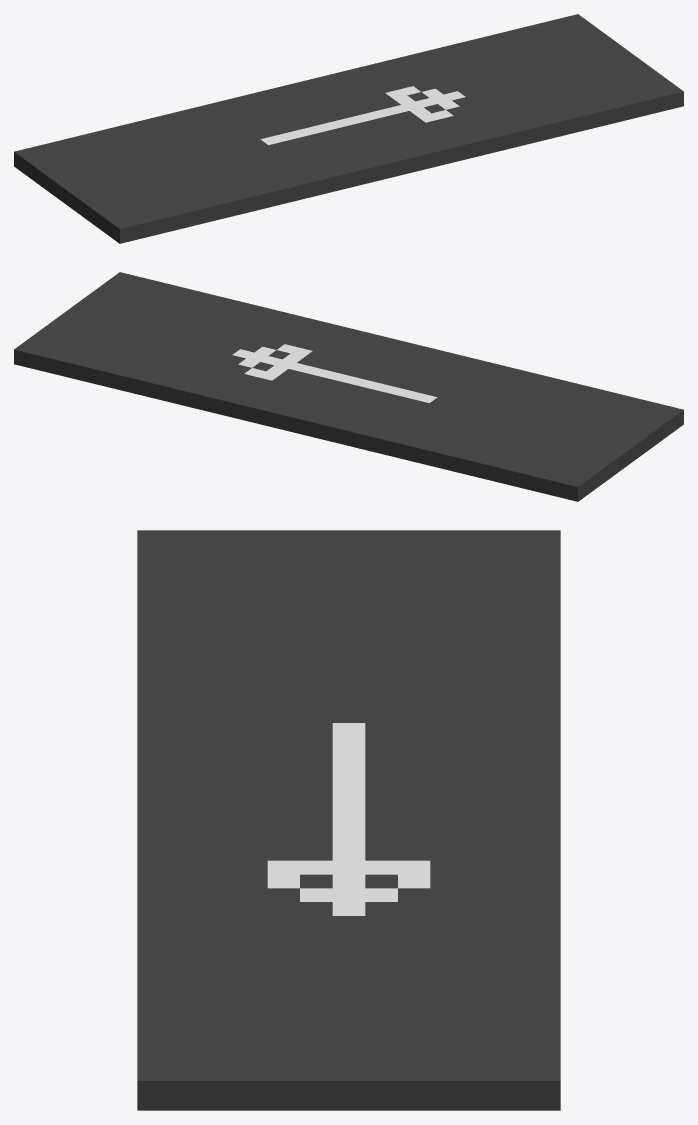
Rendered from calle2_texture_embed.fbx.
3 renders of one model, top to bottom at view 1: azimuth 30°, elevation 25°; view 2: azimuth 150°, elevation 25°; view 3: azimuth 270°, elevation 25°, orthographic. The views are drawn at different scales.
Parts seen in each view (by area): view 1: calle2; view 2: calle2; view 3: calle2.
Boxes of the visible parts, x1,y1,x2,y2 form: calle2: (14, 14, 683, 243); calle2: (14, 272, 683, 501); calle2: (137, 530, 560, 1110).
Bounding box in the file's own units: 400 × 10 × 130.
Materials: 1 (1 with a texture image).
